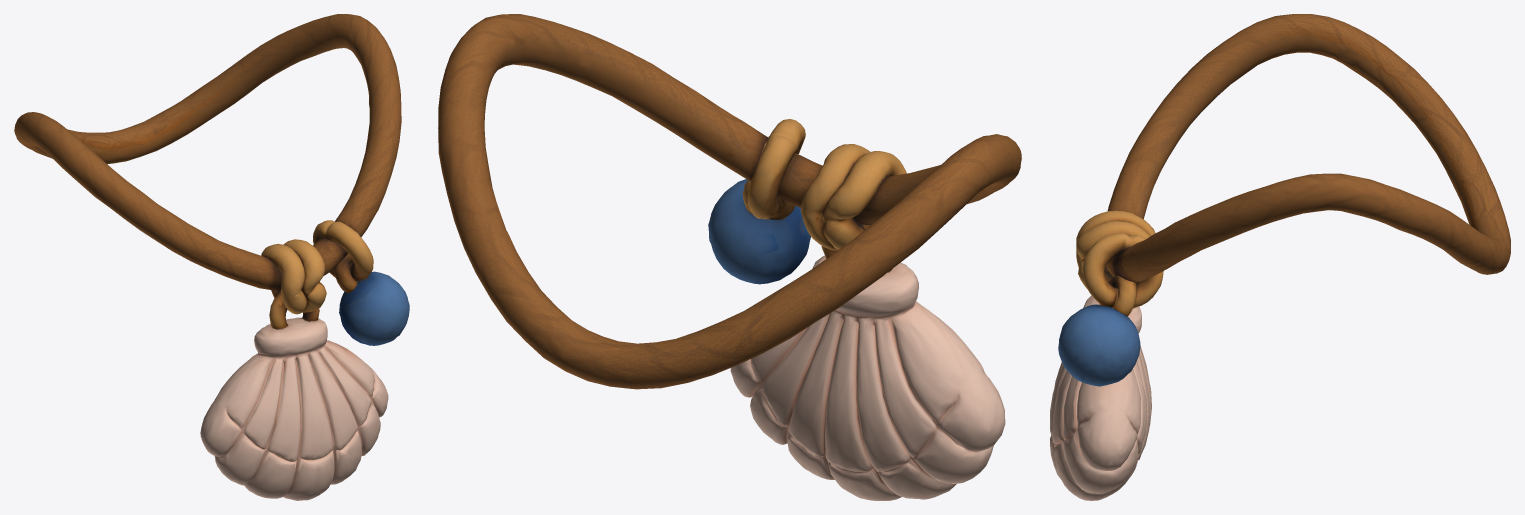
Rendered from mem_ac_pinkshell.fbx.
3 views of the same model, side by side, from view 1: azimuth 30°, elevation 25°; view 2: azimuth 150°, elevation 25°; view 3: azimuth 270°, elevation 25° (orthographic). The views are drawn at different scales.
Visible parts, largest first — view 1: tripo_node_af4f15d8-389c-4a03-808c-a7520afc0ab6; view 2: tripo_node_af4f15d8-389c-4a03-808c-a7520afc0ab6; view 3: tripo_node_af4f15d8-389c-4a03-808c-a7520afc0ab6.
Boxes of the visible parts, box(x1,y1,x2,y2) form: tripo_node_af4f15d8-389c-4a03-808c-a7520afc0ab6: box(14, 14, 409, 500); tripo_node_af4f15d8-389c-4a03-808c-a7520afc0ab6: box(438, 14, 1021, 500); tripo_node_af4f15d8-389c-4a03-808c-a7520afc0ab6: box(1050, 14, 1510, 500).
Bounding box in the file's own units: 0.9785 × 0.9707 × 0.998.
Materials: 1 (1 with a texture image).
